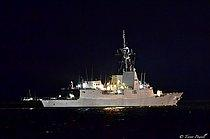MIL_Ship: (16, 61, 187, 110)
